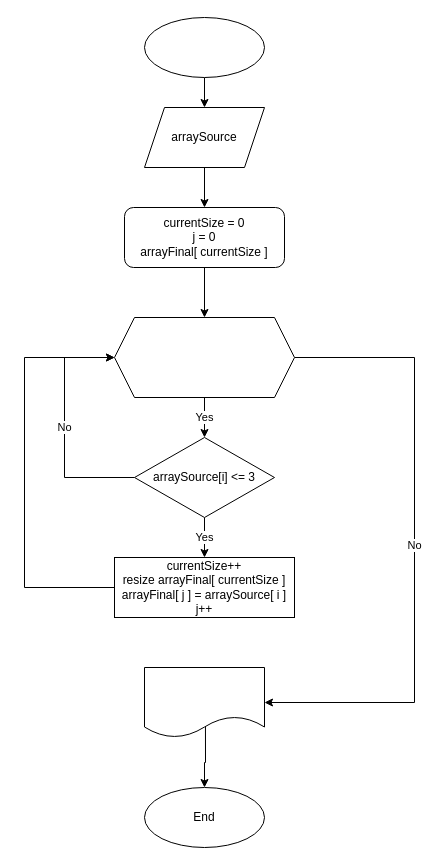
The diagram is 440 pixels wide and 865 high, and some of its shapes have lost their labels. The shapes that lost their labels are listed below. From the top down, each one's centre as x and y in pixels, then its label:
At point (204, 47): "Start".
At point (204, 357): "i = 0, arraySource.Length - 1, 1".
At point (204, 702): "arrayFinal".
